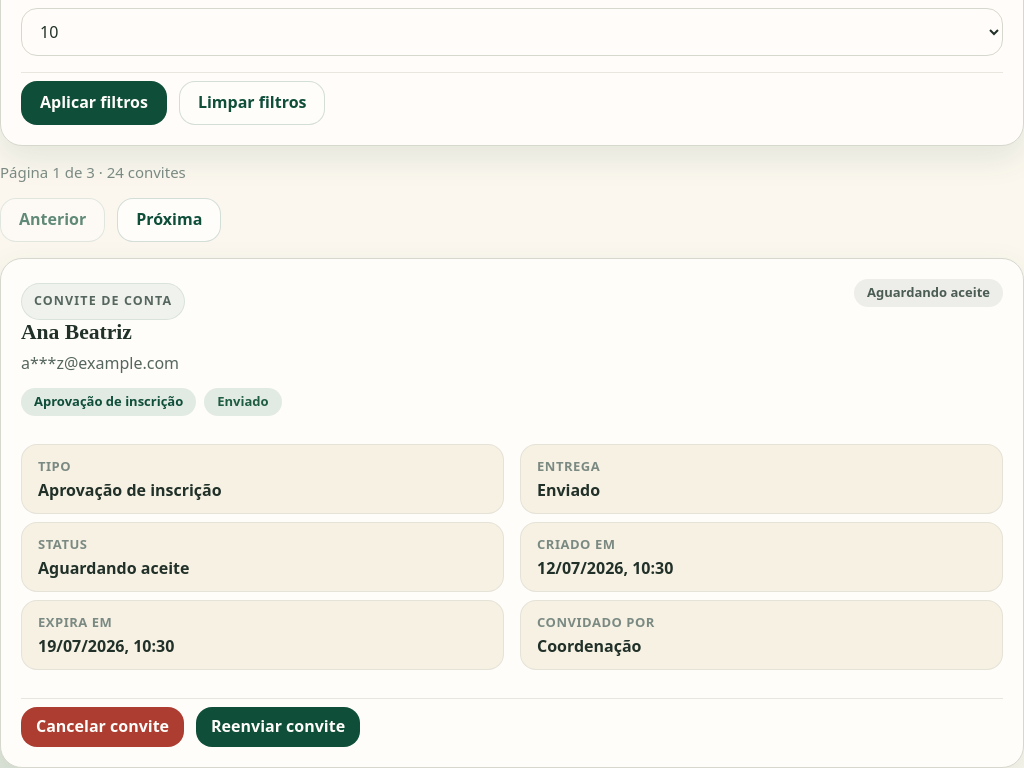
Test: AdminAccountInvitationsPage › clique em reenviar abre confirmacao acessivel
This screenshot has width=1024, height=768.
(page scrolled)
Step 1. Click the button "Reenviar convite" → (278, 727), box 196,707 -> 360,747
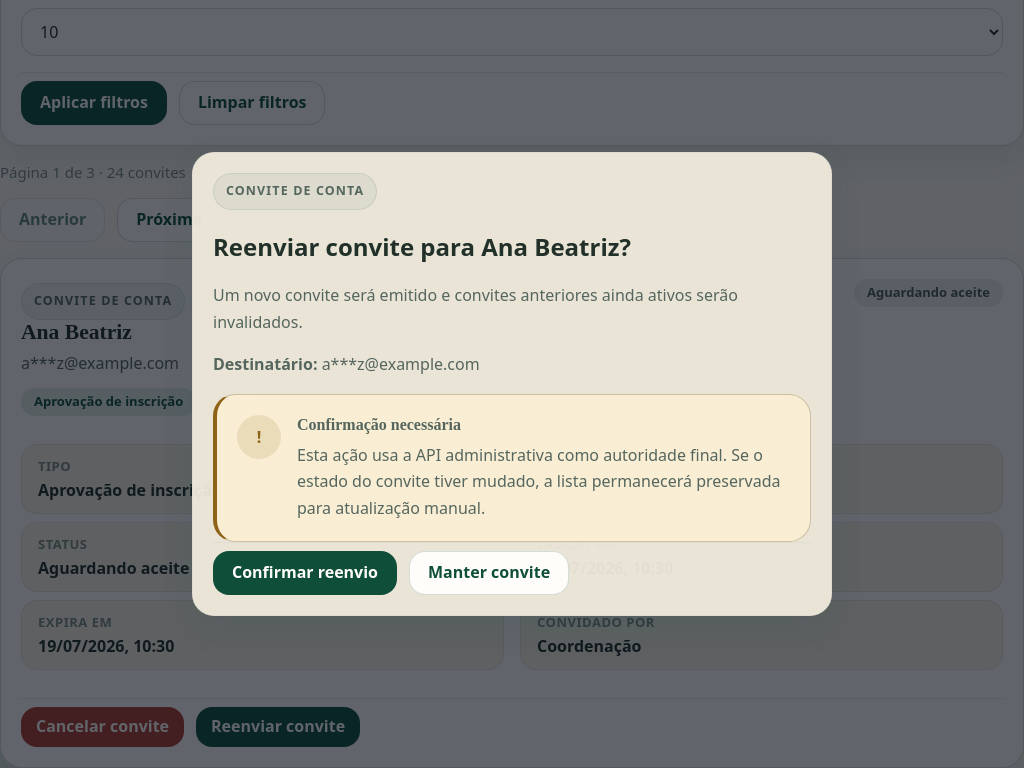
Expected: the heading "Reenviar convite para Ana Beatriz?" does not show "invitation-internal-id-001", 213,230 -> 631,262
Expected: the dialog "Reenviar convite para Ana Beatriz" is shown
